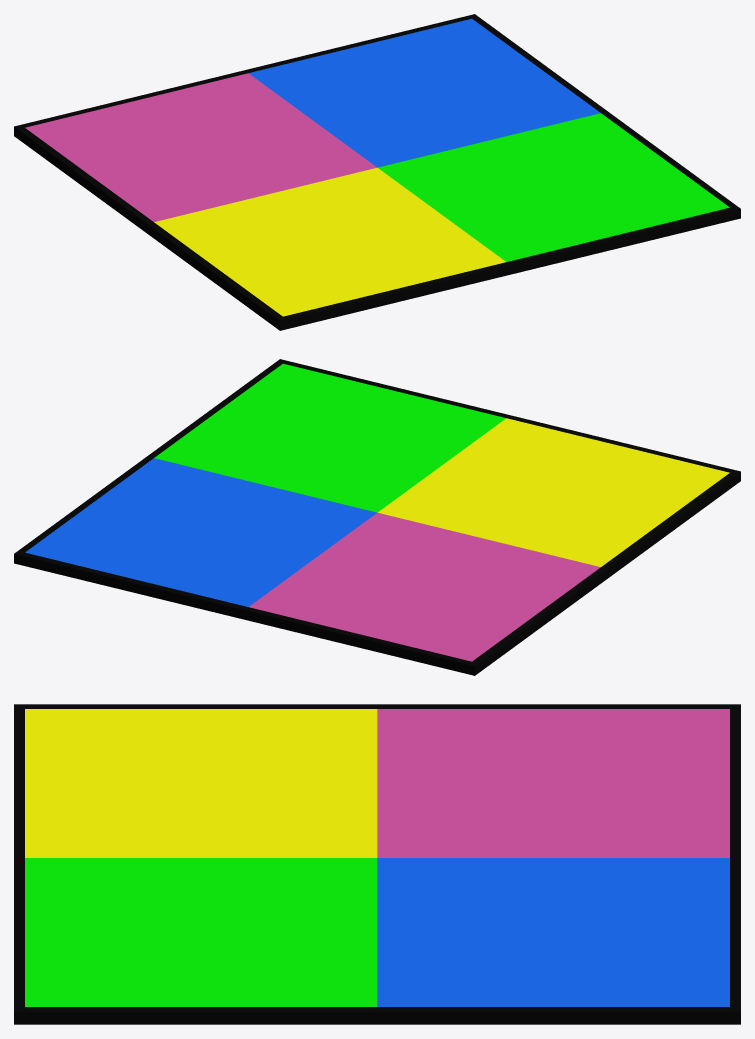
File: Ground_Disco_1.fbx
3 views of the same model, one above another, from view 1: azimuth 30°, elevation 25°; view 2: azimuth 150°, elevation 25°; view 3: azimuth 270°, elevation 25° (orthographic). The views are drawn at different scales.
Parts seen in each view (by area): view 1: Ground_Disco_1; view 2: Ground_Disco_1; view 3: Ground_Disco_1.
Part boxes in pixels (x1,y1,x2,y2): Ground_Disco_1: (14,14,740,330); Ground_Disco_1: (14,359,740,675); Ground_Disco_1: (14,704,740,1024).
Bounding box in the file's own units: 2 × 0.04 × 2.
